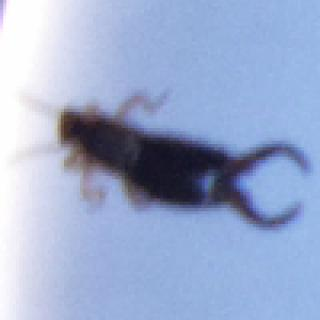earwig: (6, 87, 312, 239)
